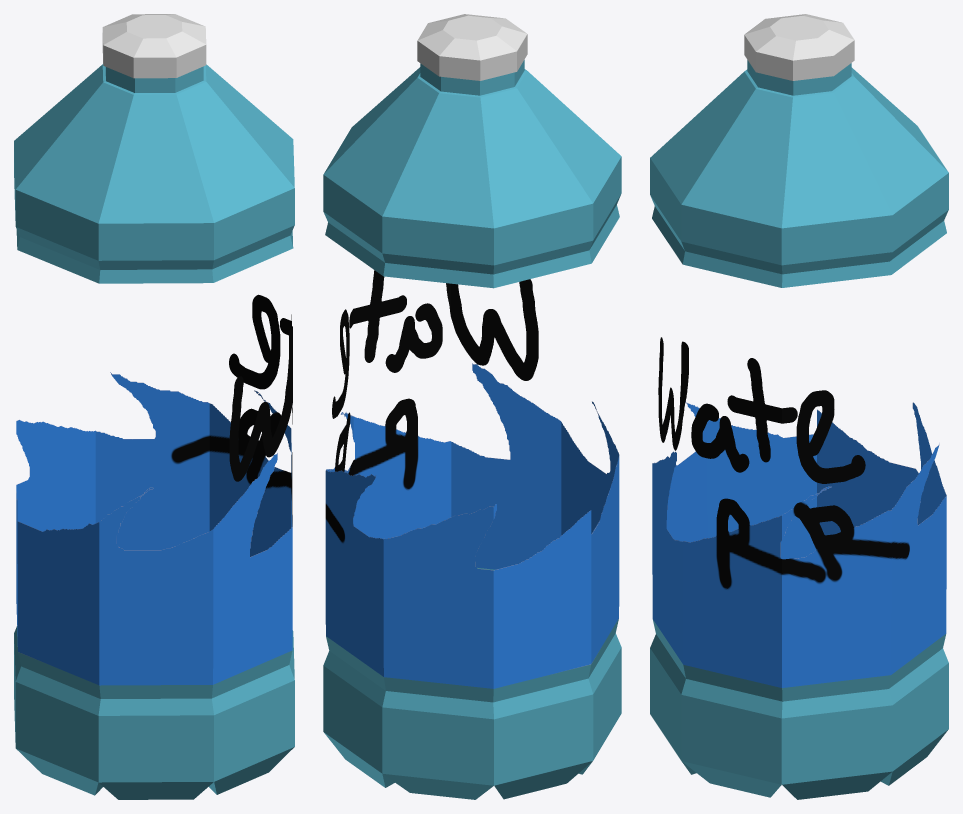
File: bottle.fbx
3 renders of one model, left to right at view 1: azimuth 30°, elevation 25°; view 2: azimuth 150°, elevation 25°; view 3: azimuth 270°, elevation 25°, orthographic.
Visible parts, largest first — view 1: Cylinder; view 2: Cylinder; view 3: Cylinder.
Part boxes in pixels (x1=…): Cylinder: x1=14, y1=14, x2=294, y2=799; Cylinder: x1=323, y1=14, x2=621, y2=799; Cylinder: x1=650, y1=14, x2=948, y2=799.
Bounding box in the file's own units: 169 × 447 × 169.
